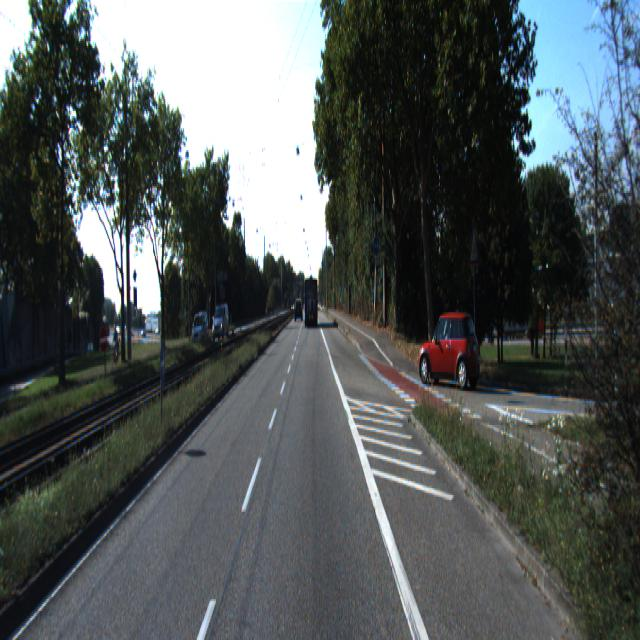Car: (418, 312, 482, 394), (190, 313, 210, 349), (304, 278, 318, 328), (212, 306, 230, 342)
